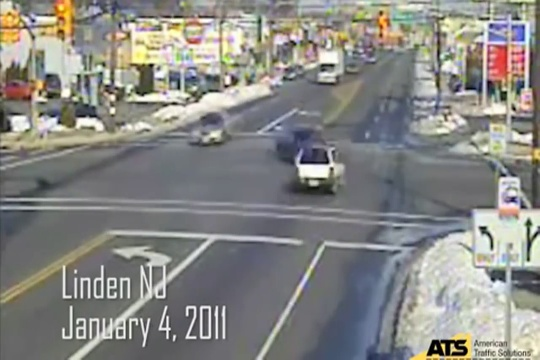car: (290, 147, 353, 191), (193, 112, 243, 149), (275, 127, 322, 160), (315, 47, 342, 87)
